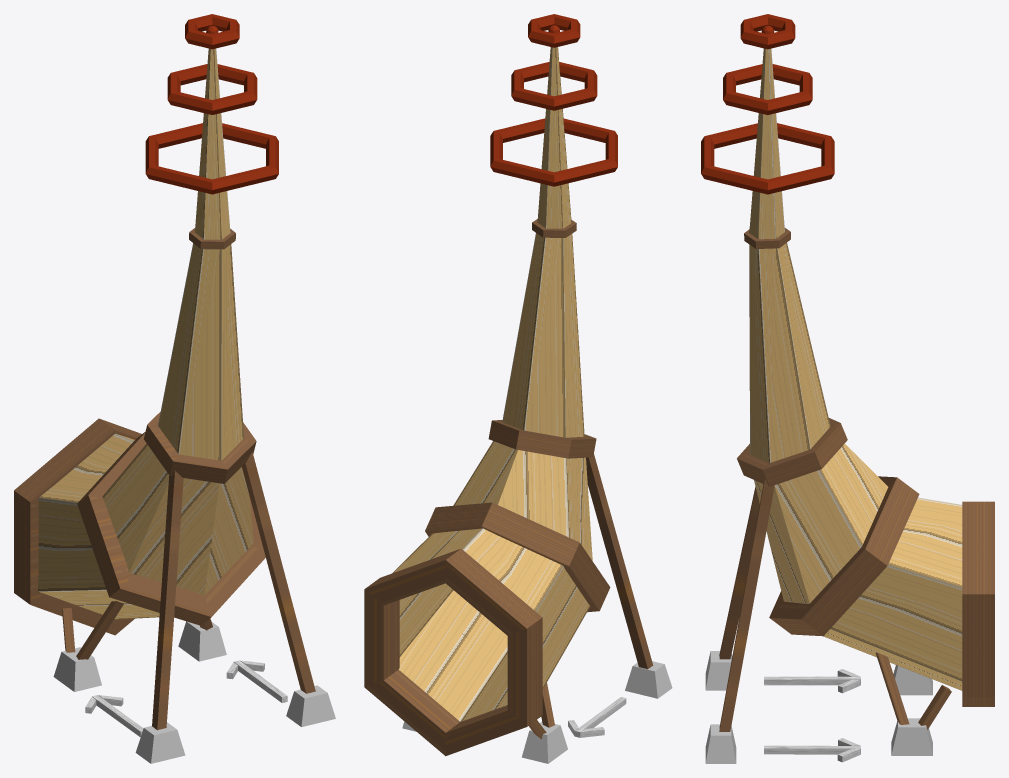
File: ReceiverGood.obj
The picture shows the model from 3 angles, left to right: view 1: azimuth 30°, elevation 25°; view 2: azimuth 150°, elevation 25°; view 3: azimuth 270°, elevation 25°; orthographic projection. The views are drawn at different scales.
Parts seen in each view (by area): view 1: Cylinder.005_Cylinder.007, Band7.004_Circle.003, Cube, Cylinder.018_Cylinder.020, Band7.002_Circle.002, Cylinder.014_Cylinder.016, Torus.004, Cylinder.017_Cylinder.019, Cylinder.019_Cylinder.021, Band7.003_Circle.002, ConcreteSupport.001_Cube.001, ConcreteSupport_Cube.006 (+10 smaller); view 2: Band7.002_Circle.002, Cylinder.004_Cylinder.006, Cylinder.005_Cylinder.007, Cylinder.016_Cylinder.018, Band7.004_Circle.003, Torus.004, Cylinder.012_Cylinder.014, Cylinder.021_Cylinder.023, Cube, Cylinder.014_Cylinder.016, Cylinder.017_Cylinder.019, Torus.003 (+10 smaller); view 3: Cylinder.005_Cylinder.007, Cylinder.009_Cylinder.011, Band7.002_Circle.002, Band7.004_Circle.003, Cylinder.020_Cylinder.022, Cylinder.010_Cylinder.012, Cube, Torus.004, Cylinder.021_Cylinder.023, Cylinder.019_Cylinder.021, Band7.003_Circle.002, Torus.003 (+11 smaller).
Boxes of the visible parts, bbox=[...] form: Cylinder.005_Cylinder.007: bbox=[102, 443, 253, 595]; Band7.004_Circle.003: bbox=[77, 432, 265, 625]; Cube: bbox=[152, 452, 315, 730]; Cylinder.018_Cylinder.020: bbox=[178, 249, 221, 460]; Band7.002_Circle.002: bbox=[14, 418, 141, 635]; Cylinder.014_Cylinder.016: bbox=[38, 498, 106, 591]; Torus.004: bbox=[145, 123, 278, 194]; Cylinder.017_Cylinder.019: bbox=[158, 243, 202, 453]; Cylinder.019_Cylinder.021: bbox=[221, 244, 243, 460]; Band7.003_Circle.002: bbox=[144, 412, 256, 483]; ConcreteSupport.001_Cube.001: bbox=[135, 685, 335, 763]; ConcreteSupport_Cube.006: bbox=[53, 621, 226, 691]; Band7.002_Circle.002: bbox=[364, 548, 542, 756]; Cylinder.004_Cylinder.006: bbox=[399, 590, 507, 721]; Cylinder.005_Cylinder.007: bbox=[453, 441, 592, 560]; Cylinder.016_Cylinder.018: bbox=[524, 237, 565, 437]; Band7.004_Circle.003: bbox=[425, 502, 610, 612]; Torus.004: bbox=[490, 118, 617, 186]; Cylinder.012_Cylinder.014: bbox=[463, 528, 562, 611]; Cylinder.021_Cylinder.023: bbox=[502, 233, 545, 430]; Cube: bbox=[586, 454, 653, 669]; Cylinder.014_Cylinder.016: bbox=[536, 566, 590, 689]; Cylinder.017_Cylinder.019: bbox=[563, 234, 584, 437]; Torus.003: bbox=[511, 62, 597, 110]; Cylinder.005_Cylinder.007: bbox=[754, 443, 888, 603]; Cylinder.009_Cylinder.011: bbox=[830, 564, 962, 681]; Band7.002_Circle.002: bbox=[962, 501, 994, 706]; Band7.004_Circle.003: bbox=[769, 476, 919, 636]; Cylinder.020_Cylinder.022: bbox=[758, 248, 810, 462]; Cylinder.010_Cylinder.012: bbox=[888, 497, 962, 587]; Cube: bbox=[719, 479, 774, 731]; Torus.004: bbox=[701, 123, 834, 194]; Cylinder.021_Cylinder.023: bbox=[777, 243, 830, 448]; Cylinder.019_Cylinder.021: bbox=[749, 244, 769, 462]; Band7.003_Circle.002: bbox=[737, 418, 847, 486]; Torus.003: bbox=[723, 64, 812, 114].
Size of the model in its own units: 2.54 by 9.08 by 3.49.
Materials: 5 (3 with a texture image).
